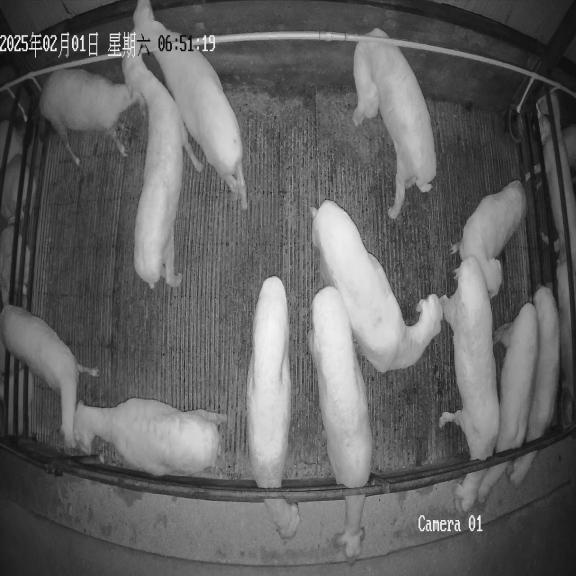eating: (308, 286, 372, 562), (439, 257, 499, 511), (246, 276, 299, 540), (478, 303, 539, 501), (506, 286, 560, 485)
stand: (133, 0, 248, 208), (311, 200, 442, 372), (122, 32, 187, 288), (353, 39, 436, 218), (0, 305, 98, 447), (74, 398, 226, 476), (39, 69, 143, 166), (451, 181, 526, 298)
